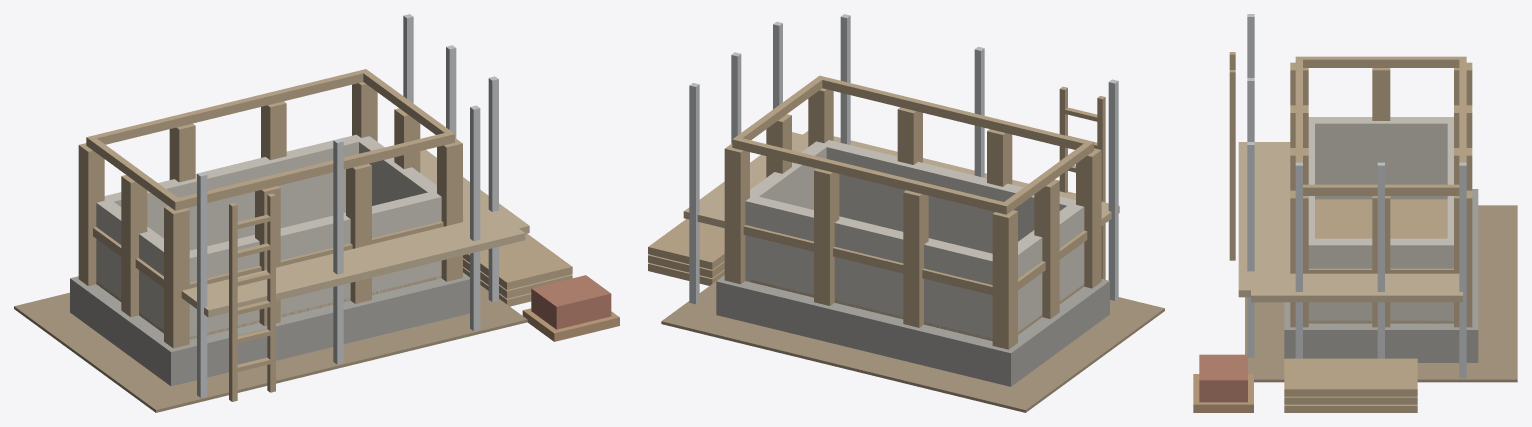
The model's file is garden_shed_site_6.glb.
3 renders of one model, left to right at view 1: azimuth 30°, elevation 25°; view 2: azimuth 150°, elevation 25°; view 3: azimuth 270°, elevation 25°, orthographic. The views are drawn at different scales.
Visible parts, largest first — view 1: body; view 2: body; view 3: body.
Part boxes in pixels (left/top/right/bottom): body: left=14, top=14, right=619, bottom=412; body: left=648, top=14, right=1164, bottom=412; body: left=1193, top=14, right=1517, bottom=412.
Size of the model in its own units: 1.2 by 0.5869 by 0.8.
